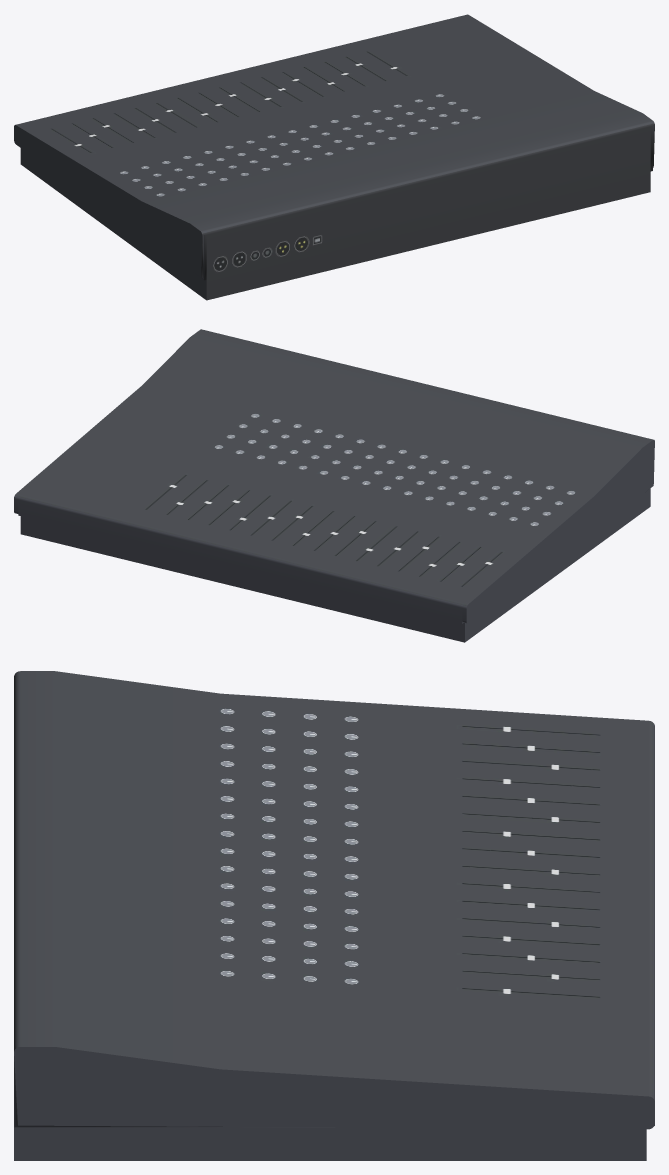
Rendered from allen-heath-zed-22fx.glb.
3 views of the same model, one above another, from view 1: azimuth 30°, elevation 25°; view 2: azimuth 150°, elevation 25°; view 3: azimuth 270°, elevation 25° (orthographic). The views are drawn at different scales.
Visible parts, largest first — view 1: allen-heath-zed-22fx-body; view 2: allen-heath-zed-22fx-body; view 3: allen-heath-zed-22fx-body.
Boxes of the visible parts, <box> form: allen-heath-zed-22fx-body: <box>14,14,654,300</box>; allen-heath-zed-22fx-body: <box>14,329,654,642</box>; allen-heath-zed-22fx-body: <box>14,671,654,1160</box>.
Bounding box in the file's own units: 0.645 × 0.098 × 0.465.
1 material, 1 textured.
